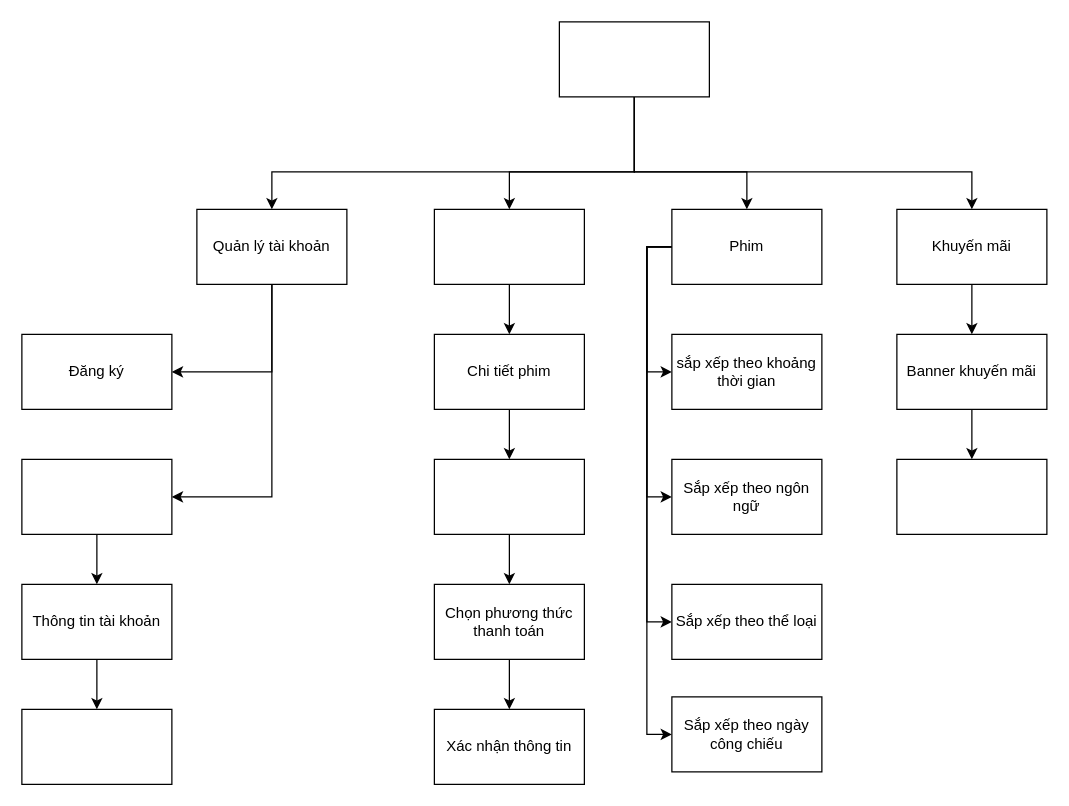
Some shapes in this 1069 by 806 pixel diagram are drawn without their labels. The shapes that lost their labels are listed below. From the top down, each one's box as (x1, y1, x2, y2) in pixels, then its label:
(558, 21, 709, 97): Trang chủ
(433, 208, 584, 284): Đặt vé
(21, 458, 172, 534): Đăng nhập
(433, 458, 584, 534): Quá trình đặt vé
(896, 458, 1047, 534): Chi tiết khuyến mãi
(21, 708, 172, 784): Lịch sử giao dịch
